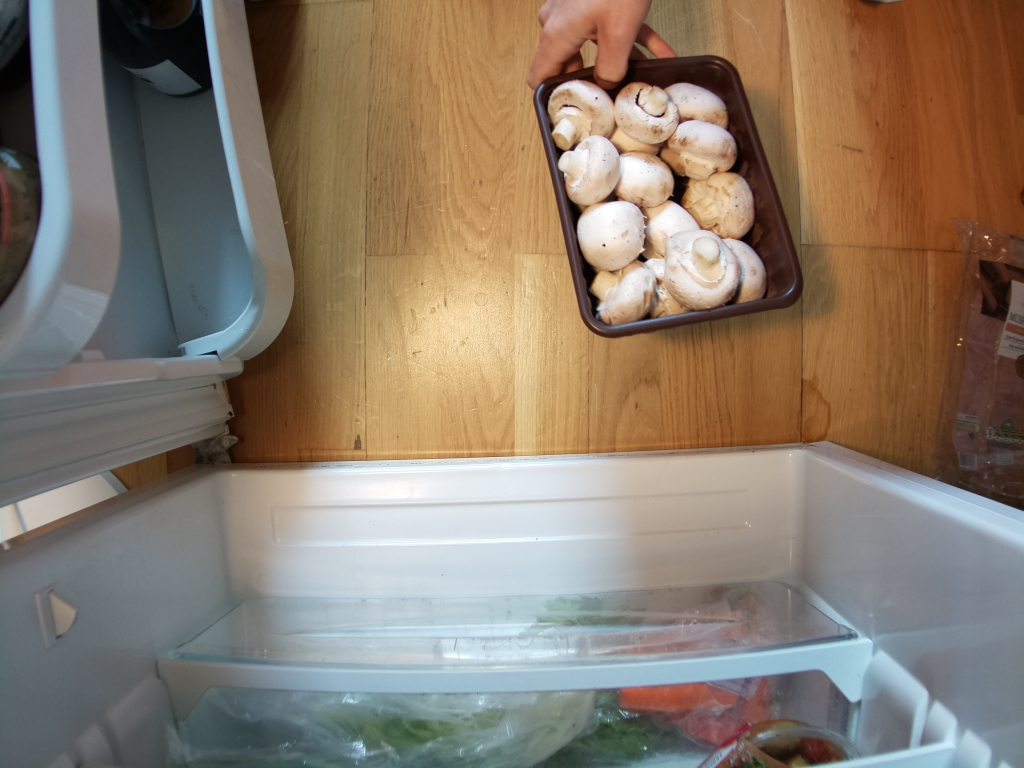mushrooms: (522, 39, 813, 346)
